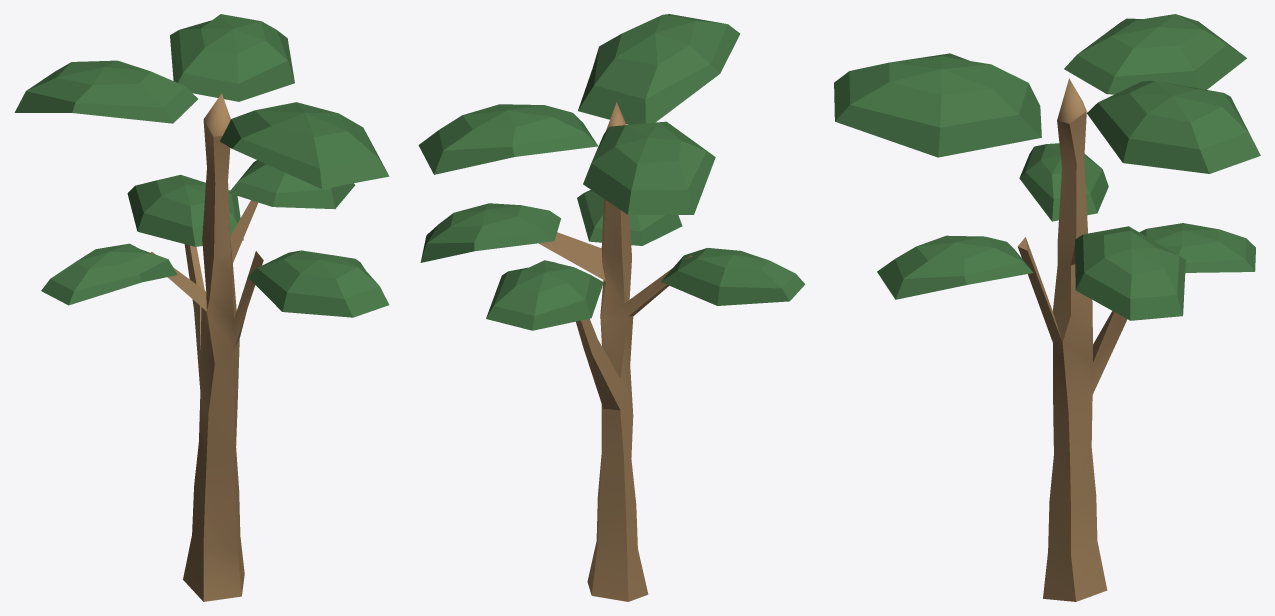
Rendered from tree.fbx.
3 views of the same model, side by side, from view 1: azimuth 30°, elevation 25°; view 2: azimuth 150°, elevation 25°; view 3: azimuth 270°, elevation 25° (orthographic). The views are drawn at different scales.
Visible parts, largest first — view 1: tree; view 2: tree; view 3: tree.
Part boxes in pixels (left/top/right/bottom): tree: left=14, top=14, right=389, bottom=601; tree: left=418, top=14, right=805, bottom=601; tree: left=834, top=14, right=1260, bottom=601.
Bounding box in the file's own units: 4.69 × 6.79 × 4.88.
